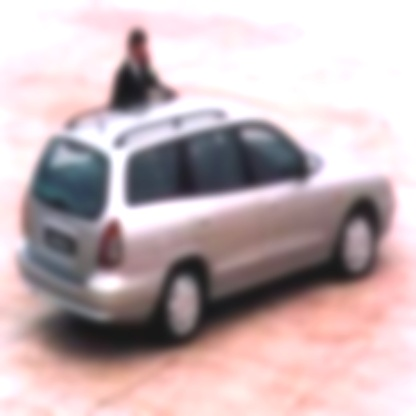Vehicle: (8, 81, 401, 346)
